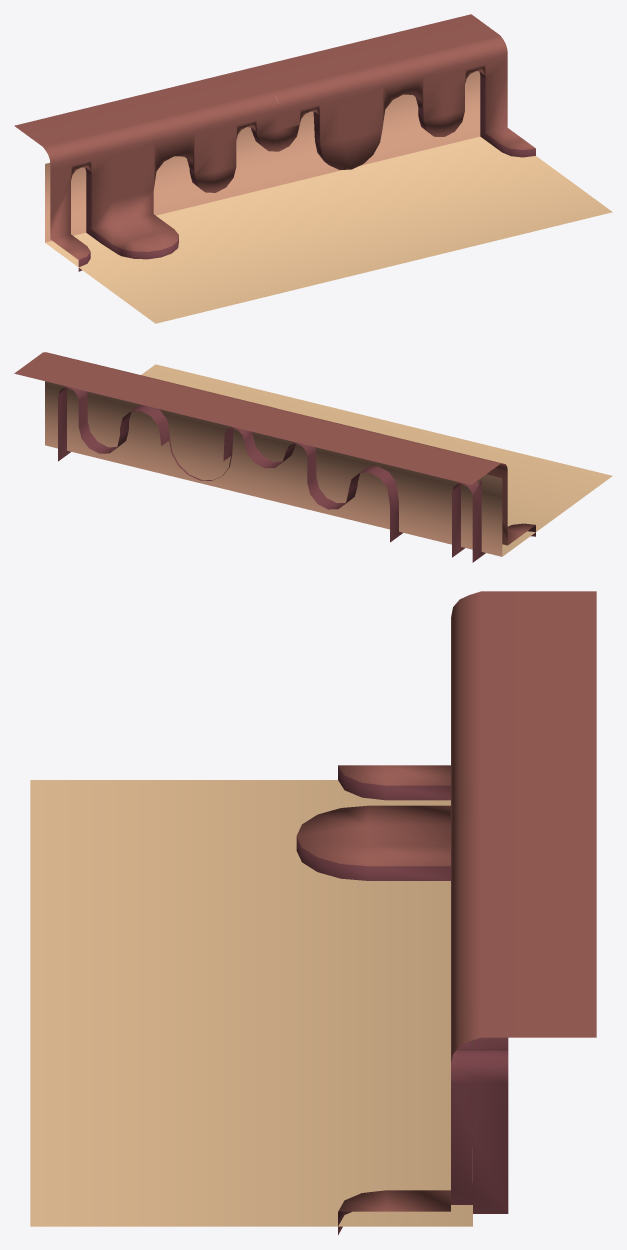
File: SM_Tile_Wall_v3.fbx
3 views of the same model, one above another, from view 1: azimuth 30°, elevation 25°; view 2: azimuth 150°, elevation 25°; view 3: azimuth 270°, elevation 25° (orthographic). The views are drawn at different scales.
Parts seen in each view (by area): view 1: SM_Tile_Wall_v3; view 2: SM_Tile_Wall_v3; view 3: SM_Tile_Wall_v3.
Part boxes in pixels (left/top/right/bottom): SM_Tile_Wall_v3: left=14, top=14, right=612, bottom=323; SM_Tile_Wall_v3: left=14, top=352, right=612, bottom=562; SM_Tile_Wall_v3: left=30, top=591, right=596, bottom=1234.
Bounding box in the file's own units: 891 × 184 × 478.
